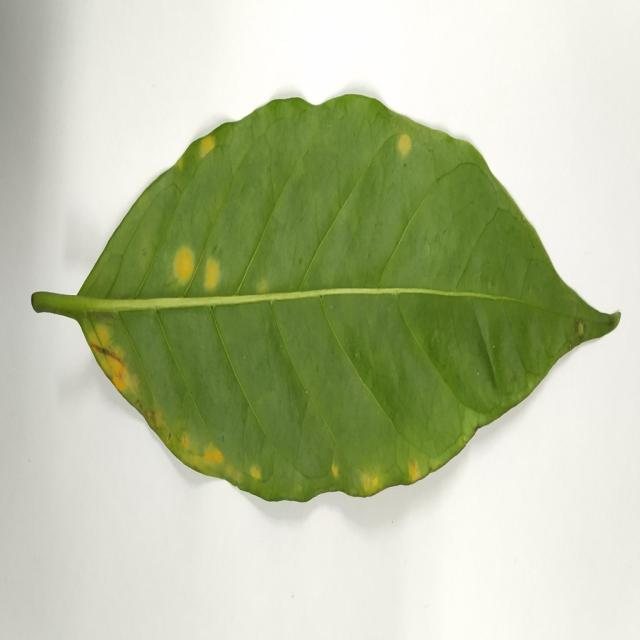rust: (83, 314, 158, 430), (178, 426, 262, 494), (172, 244, 199, 293), (395, 124, 420, 162), (405, 456, 430, 483), (202, 255, 220, 291)
